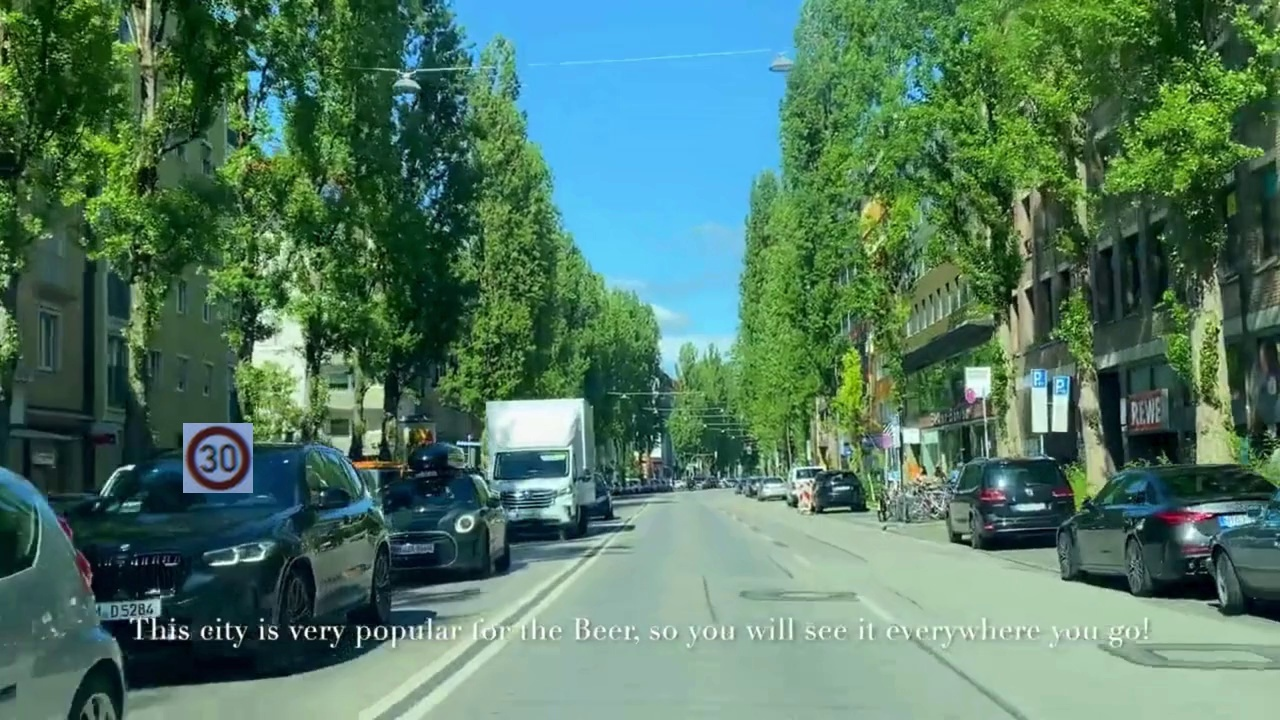Speed 30: (183, 423, 253, 493)
